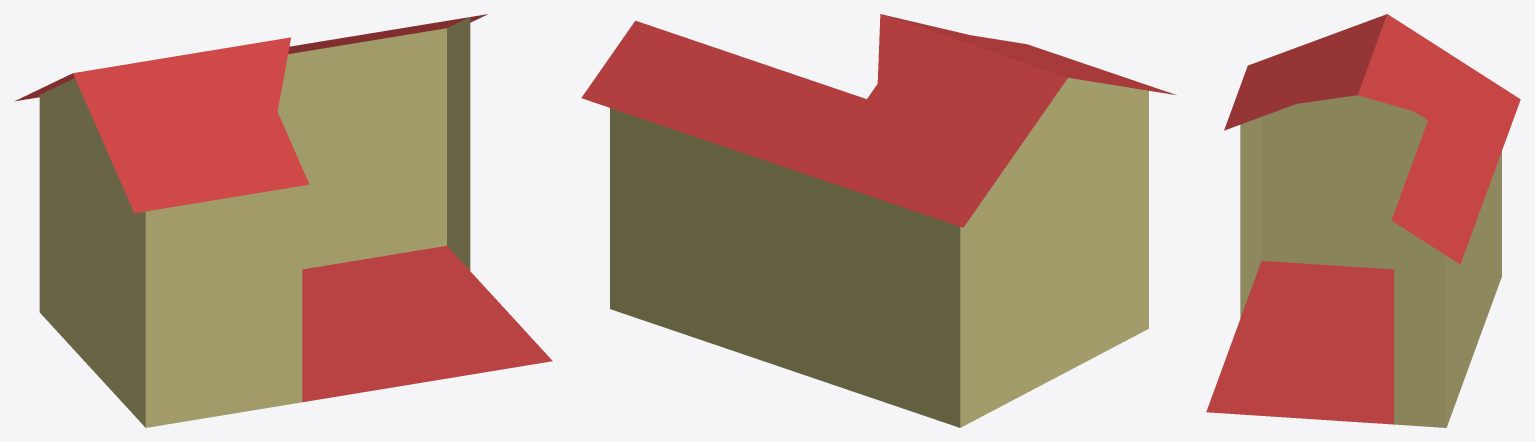
The picture shows the model from 3 angles, left to right: view 1: azimuth 30°, elevation 25°; view 2: azimuth 150°, elevation 25°; view 3: azimuth 270°, elevation 25°; orthographic projection. The views are drawn at different scales.
Bounding box in the file's own units: 13.12 × 9.53 × 8.29.
